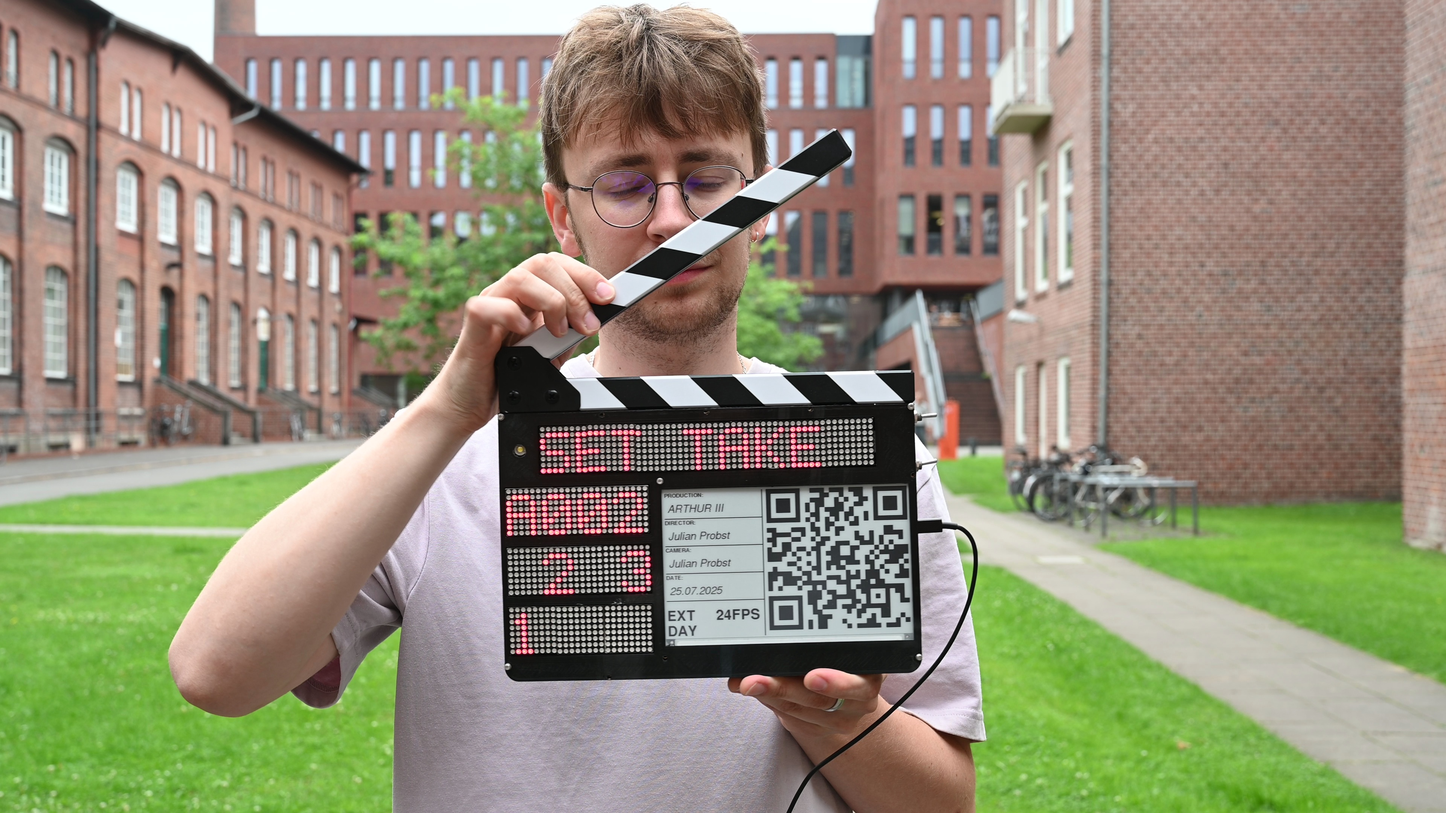ARC-SLATE: (495, 368, 921, 682)
